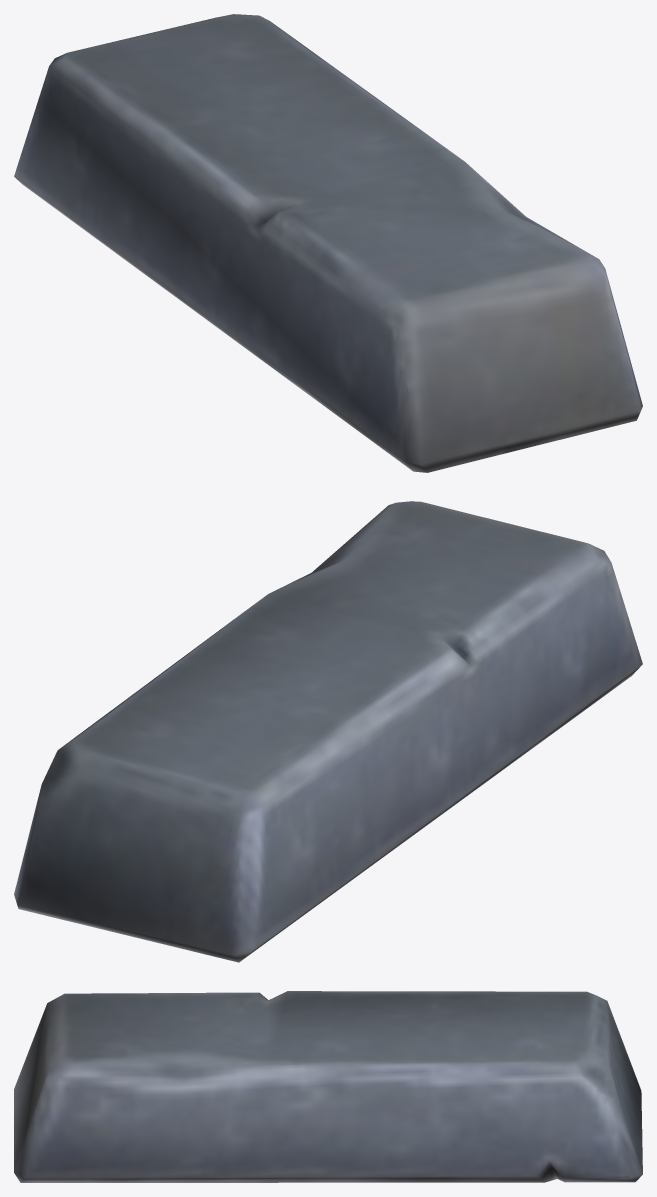
File: Iron.glb
3 views of the same model, one above another, from view 1: azimuth 30°, elevation 25°; view 2: azimuth 150°, elevation 25°; view 3: azimuth 270°, elevation 25° (orthographic). The views are drawn at different scales.
Parts seen in each view (by area): view 1: iron_low; view 2: iron_low; view 3: iron_low.
Boxes of the visible parts, x1,y1,x2,y2 form: iron_low: (14, 14, 642, 472); iron_low: (14, 501, 642, 962); iron_low: (14, 991, 642, 1182).
Bounding box in the file's own units: 0.4273 × 0.2498 × 1.25.
Materials: 1 (1 with a texture image).
